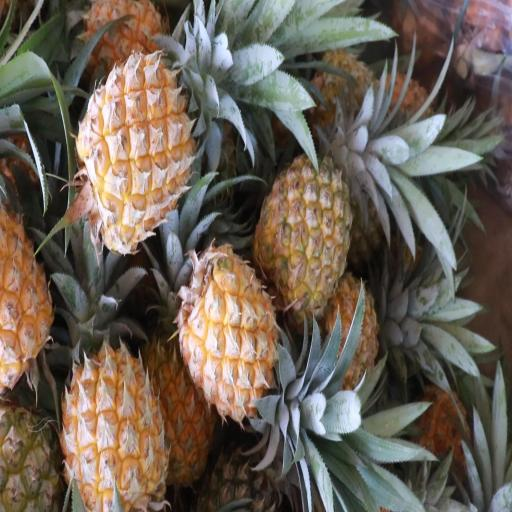------------------------------: (258, 150, 350, 312)
Pineapple - v8 v1: (82, 57, 194, 248), (178, 253, 275, 410), (69, 351, 160, 512), (144, 336, 216, 486)
